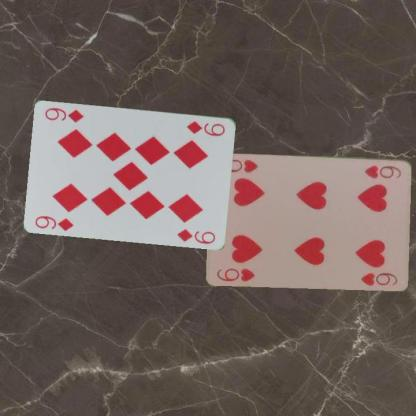6h: (214, 265, 257, 283), (362, 162, 402, 180)
9d: (32, 212, 75, 232), (184, 118, 226, 137)
